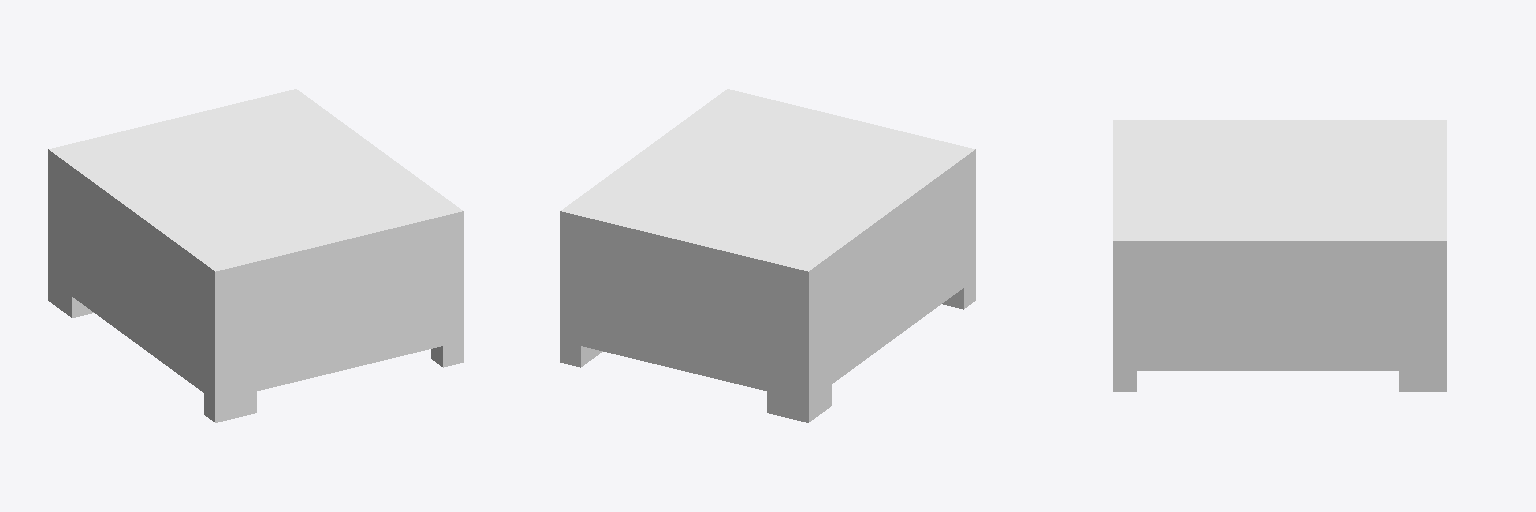
Rendered from apt:chair-footstand.obj.
The picture shows the model from 3 angles: view 1: azimuth 30°, elevation 25°; view 2: azimuth 150°, elevation 25°; view 3: azimuth 270°, elevation 25°; orthographic projection.
Visible parts, largest first — view 1: apt:chair-footstand; view 2: apt:chair-footstand; view 3: apt:chair-footstand.
Part boxes in pixels (x1,y1,x2,y2): apt:chair-footstand: (48, 89, 463, 422); apt:chair-footstand: (560, 89, 975, 422); apt:chair-footstand: (1113, 120, 1446, 391).
Size of the model in its own units: 12 by 7 by 14.